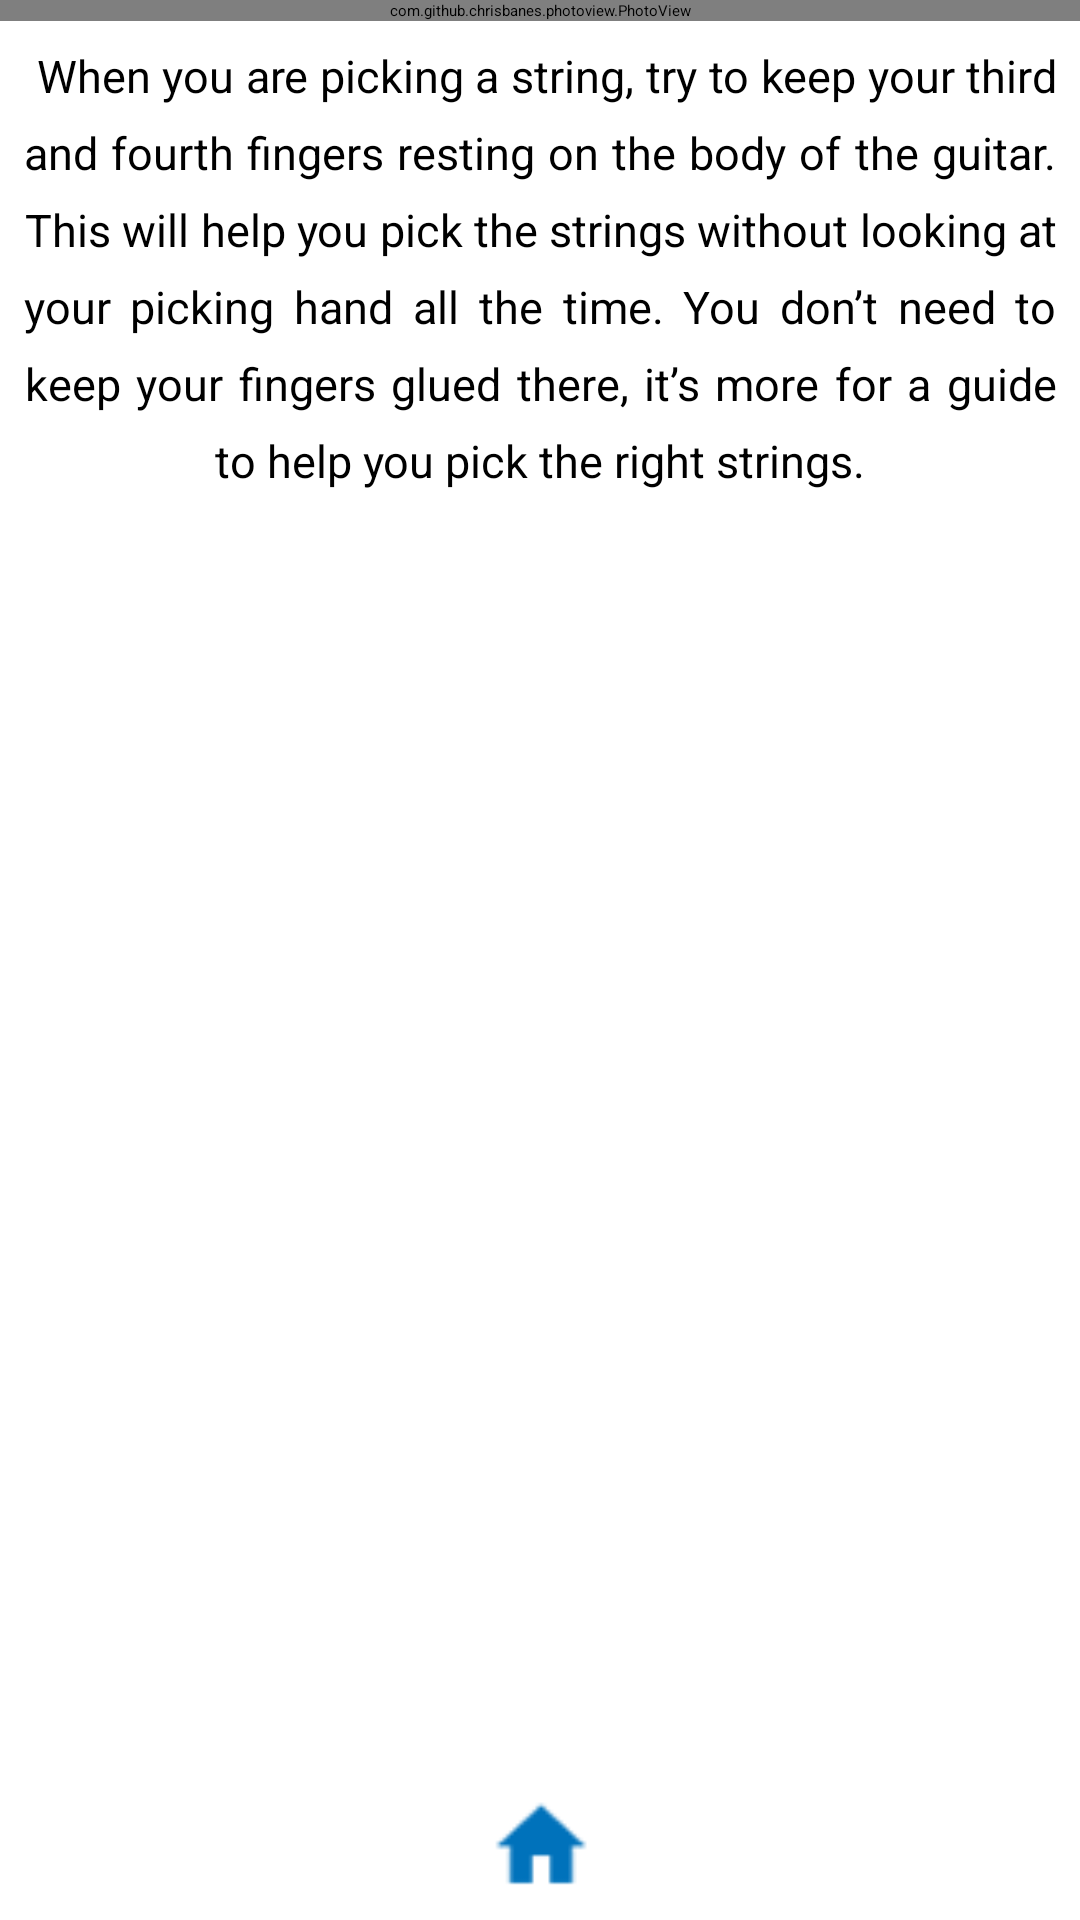

Icons on this 1080px×1920px Android screen, each with its box as (x1, y1, x2, y2):
home: (496, 1803, 586, 1884)
